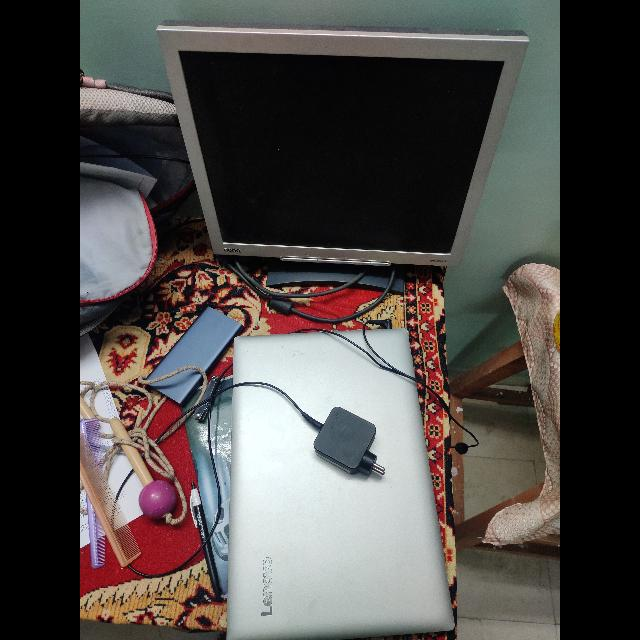Flat-Panel-Monitor: (92, 29, 304, 541)
